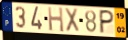3: (15, 6, 27, 29)
4: (30, 6, 43, 31)
8: (84, 8, 98, 34)
H: (47, 6, 65, 34)
P: (98, 9, 115, 35)
X: (64, 7, 81, 34)
